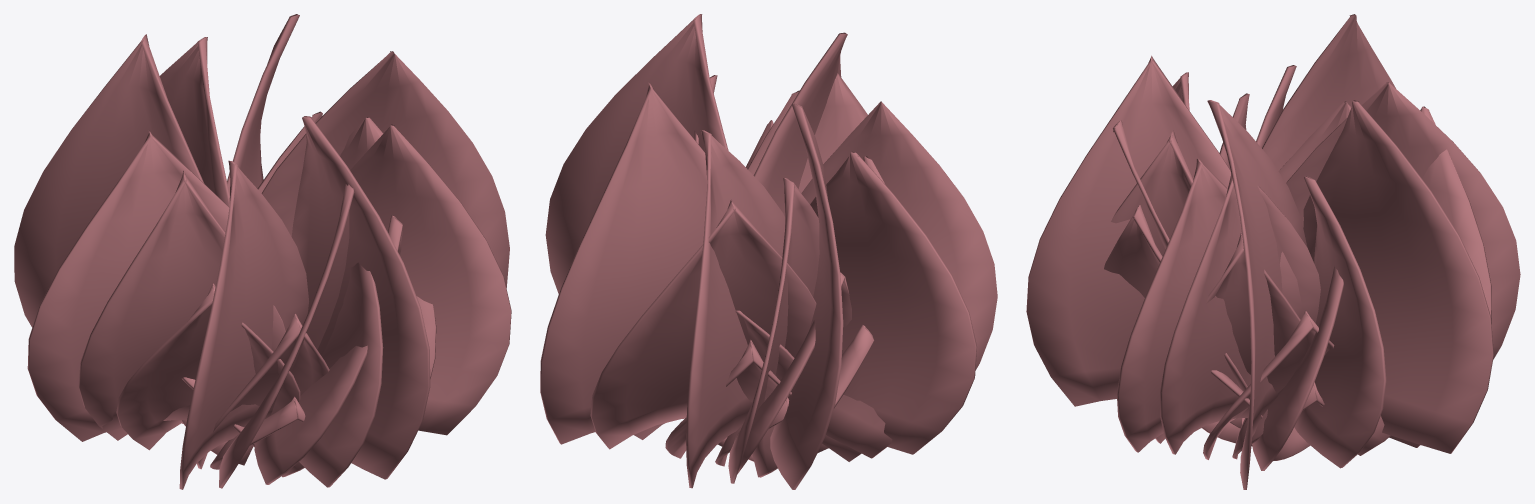
Rendered from rose.glb.
The picture shows the model from 3 angles, left to right: view 1: azimuth 30°, elevation 25°; view 2: azimuth 150°, elevation 25°; view 3: azimuth 270°, elevation 25°; orthographic projection. The views are drawn at different scales.
Parts seen in each view (by area): view 1: Rose; view 2: Rose; view 3: Rose.
Part boxes in pixels (left/top/right/bottom): Rose: left=14, top=14, right=511, bottom=489; Rose: left=540, top=14, right=997, bottom=489; Rose: left=1026, top=14, right=1520, bottom=489.
Size of the model in its own units: 1 by 0.8583 by 0.9619.
